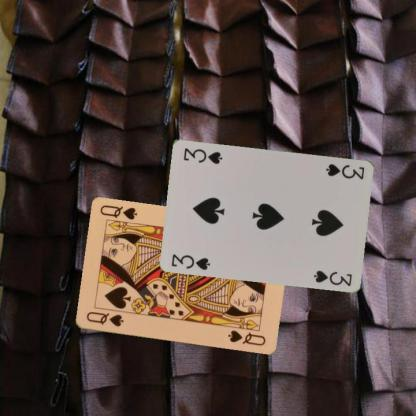3s: (169, 251, 212, 271), (324, 161, 366, 180)
Qs: (83, 309, 125, 328)
